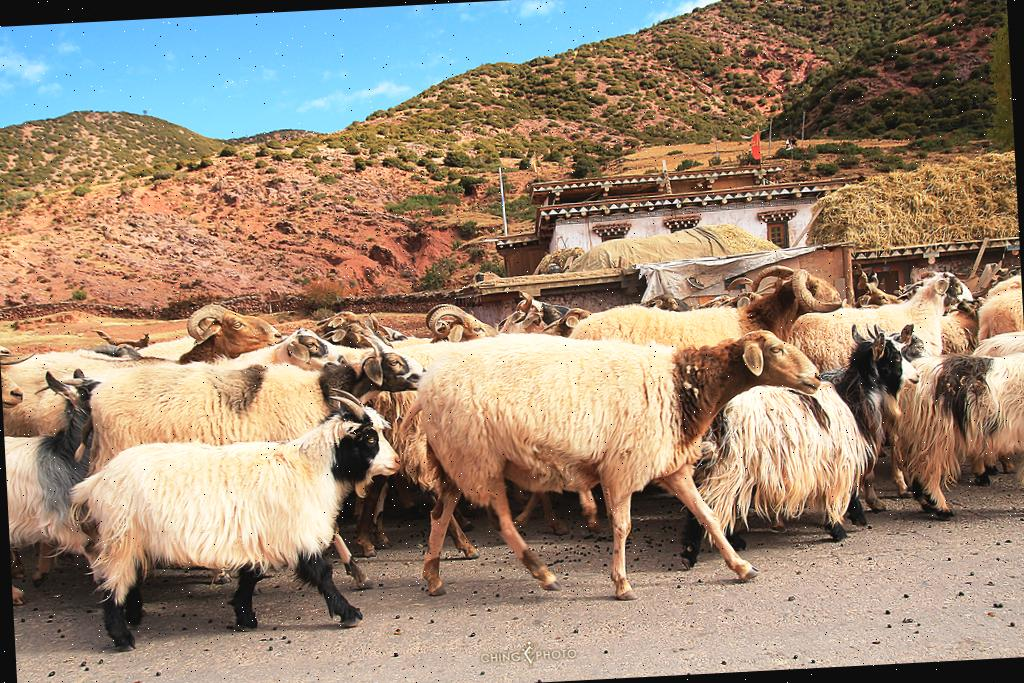Sheep: (414, 322, 833, 616), (58, 389, 408, 652), (666, 319, 930, 562), (70, 338, 436, 489), (564, 258, 856, 398), (0, 356, 128, 612), (893, 341, 1024, 546), (792, 267, 980, 387), (122, 299, 297, 392), (390, 292, 516, 376)
